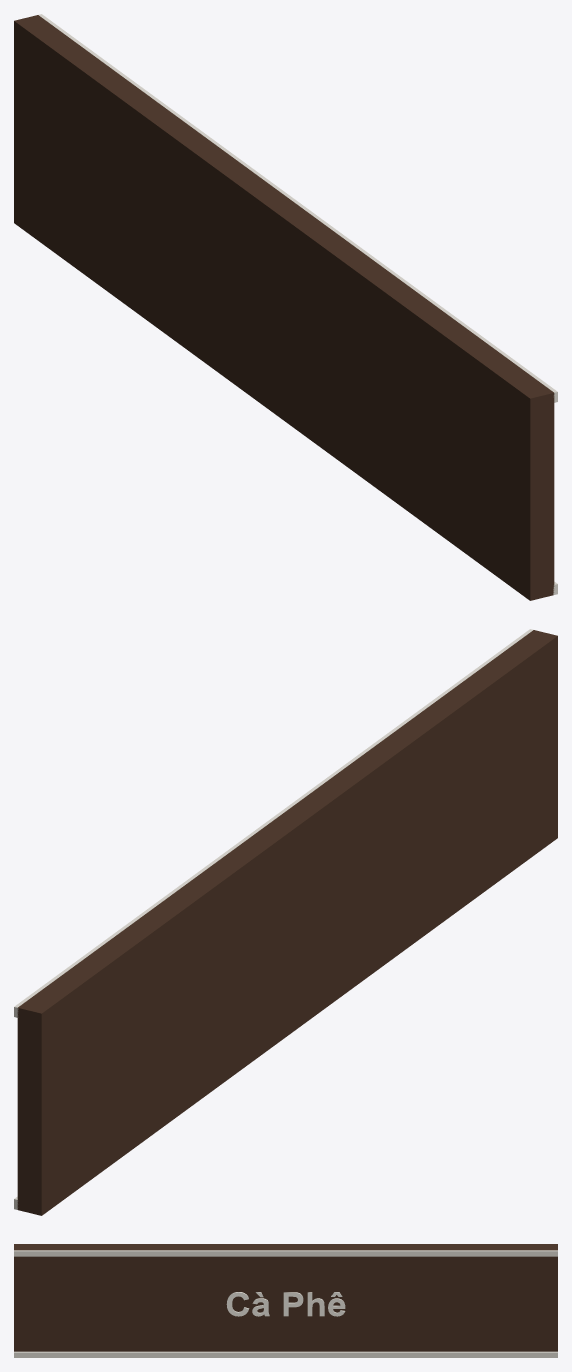
Rendered from OW_Mau_Bang_8_0_3.fbx.
The picture shows the model from 3 angles, top to bottom: view 1: azimuth 30°, elevation 25°; view 2: azimuth 150°, elevation 25°; view 3: azimuth 270°, elevation 25°; orthographic projection. The views are drawn at different scales.
Parts seen in each view (by area): view 1: OW_Bang_Cà Phê.005; view 2: OW_Bang_Cà Phê.005; view 3: OW_Bang_Cà Phê.005, Chữ • Cà Phê.005_Mesh.
Part boxes in pixels (x1,y1,x2,y2): OW_Bang_Cà Phê.005: [14, 14, 557, 600]; OW_Bang_Cà Phê.005: [14, 629, 557, 1215]; OW_Bang_Cà Phê.005: [14, 1244, 557, 1357]; Chữ • Cà Phê.005_Mesh: [226, 1292, 345, 1316].
Bounding box in the file's own units: 0.24 × 1.6 × 7.4.
